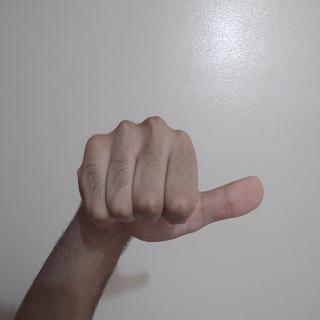ALIF: (83, 67, 194, 320)
